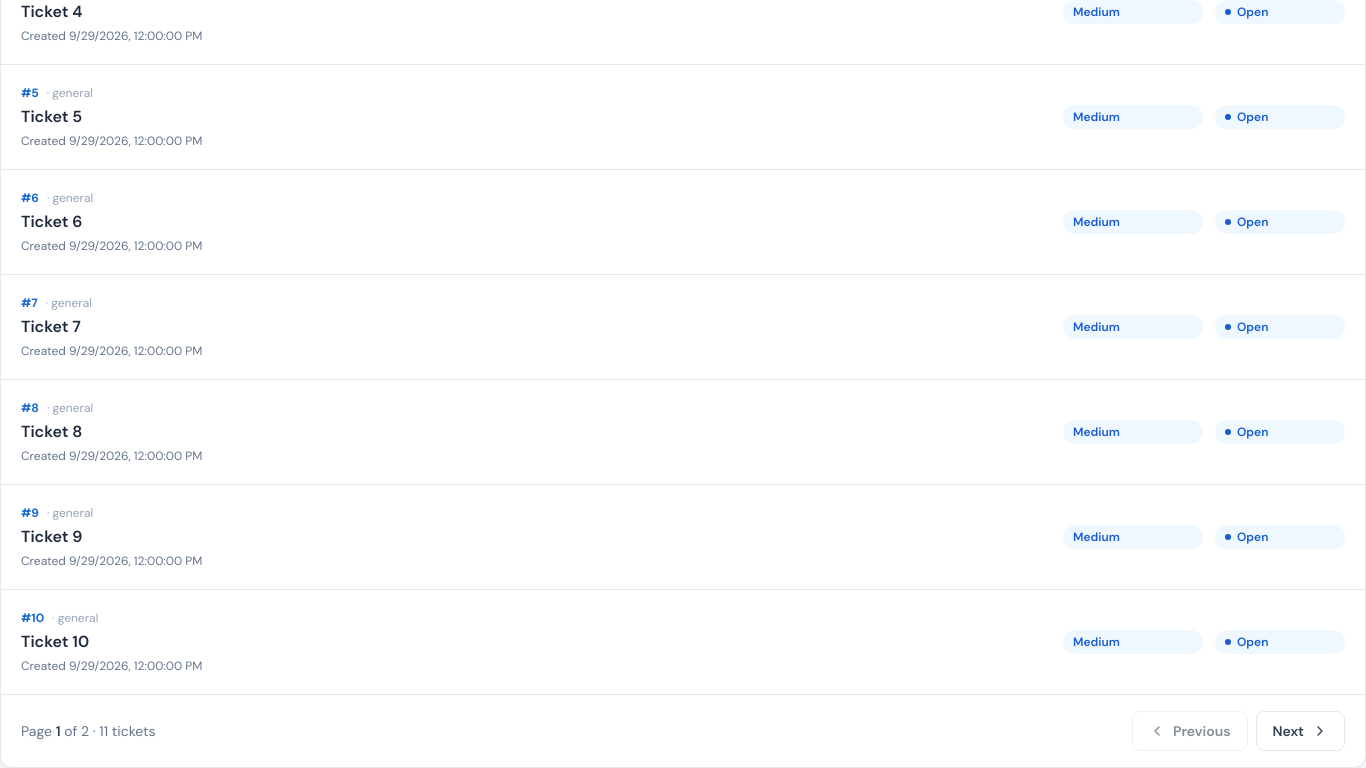
Test: TicketsPage › paginates long ticket lists accessibly
The image size is (1366, 768).
(page scrolled)
Expected: the text "Ticket 11" is not shown
Click the button with aria-label "next tickets page" at (1300, 731), box [1256,711,1345,751]
(page scrolled)
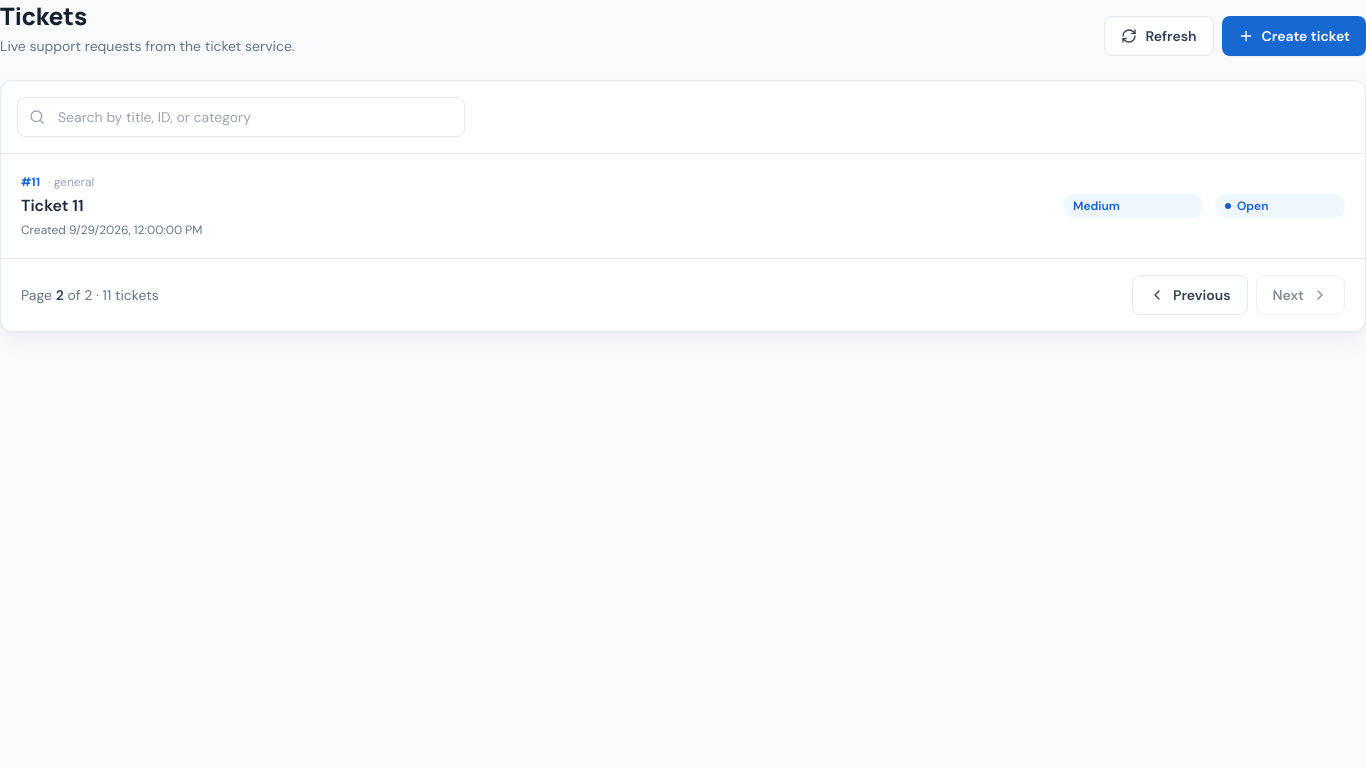
Expected: the field named "Search tickets" is shown, [17,97,465,137]
Result: the text "Ticket 11" is shown at [21,195,84,216]
